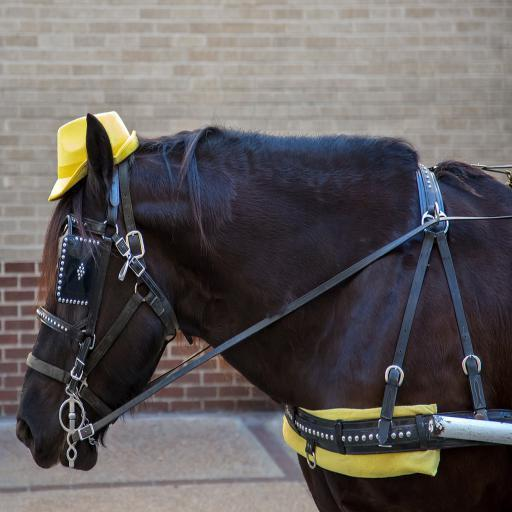horse: (15, 111, 512, 512)
